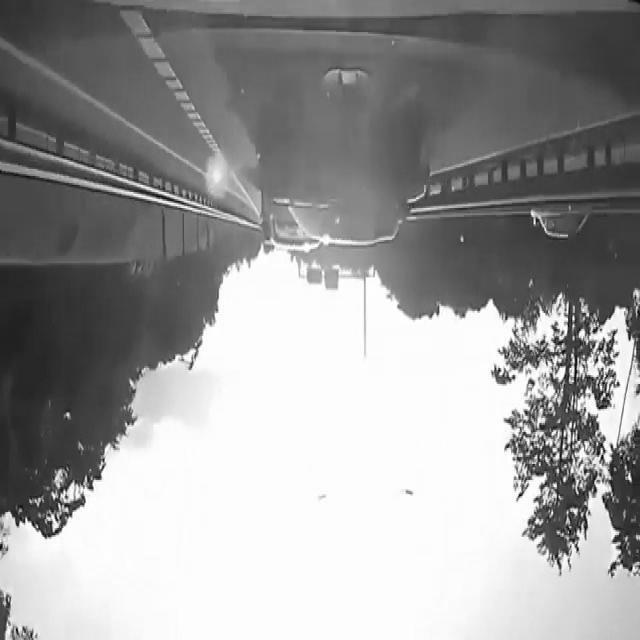vehicle: (218, 94, 442, 281)
